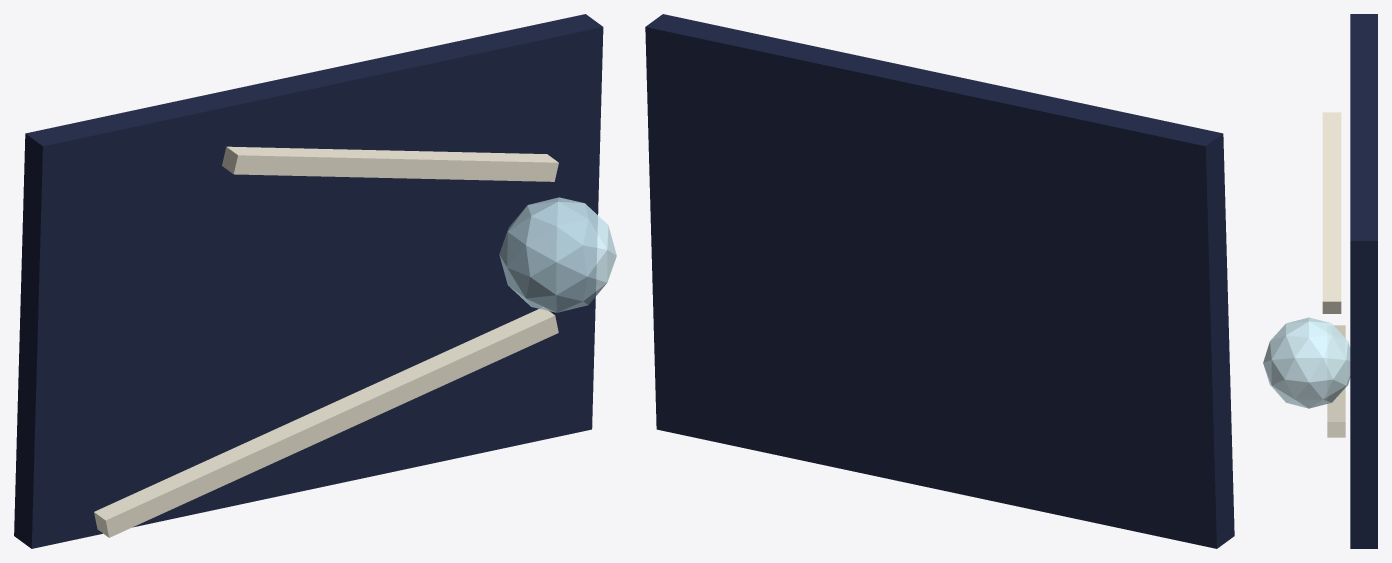
File: 02_world_prop_polish.glb
3 views of the same model, side by side, from view 1: azimuth 30°, elevation 25°; view 2: azimuth 150°, elevation 25°; view 3: azimuth 270°, elevation 25° (orthographic). The views are drawn at different scales.
Parts seen in each view (by area): view 1: object_overlay_plate, edge_wear_a, glow_socket, edge_wear_b; view 2: object_overlay_plate; view 3: object_overlay_plate, glow_socket, edge_wear_b, edge_wear_a.
Boxes of the visible parts, box(x1,y1,x2,y2) form: object_overlay_plate: box(14, 14, 603, 548); edge_wear_a: box(94, 307, 558, 537); glow_socket: box(499, 197, 616, 312); edge_wear_b: box(222, 146, 558, 181); object_overlay_plate: box(645, 14, 1234, 548); object_overlay_plate: box(1350, 14, 1377, 548); glow_socket: box(1263, 317, 1350, 408); edge_wear_b: box(1322, 112, 1341, 313); edge_wear_a: box(1327, 325, 1345, 437).
Size of the model in its own units: 1.12 by 0.7821 by 0.25.
